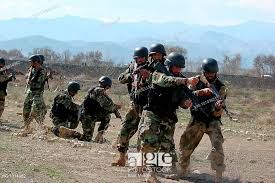gun: (198, 78, 236, 122), (129, 59, 146, 102)
uniform: (181, 66, 229, 170), (143, 58, 180, 171), (119, 51, 151, 169), (80, 80, 115, 141), (21, 54, 48, 132), (51, 81, 78, 134), (1, 56, 14, 132)
